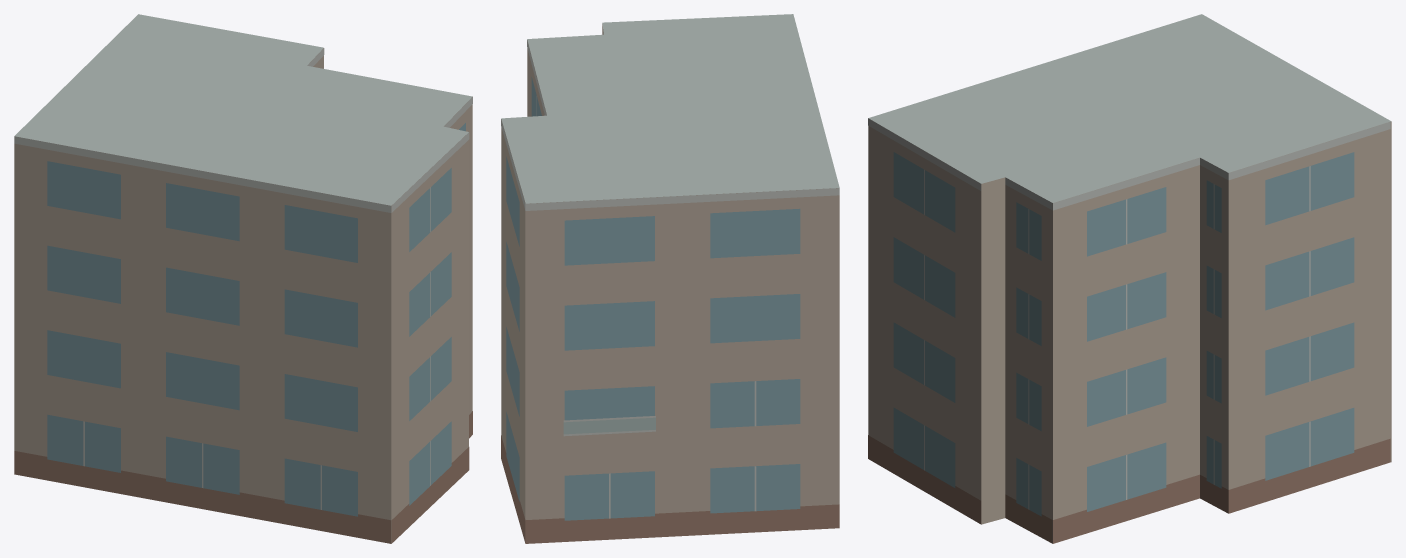
The model's file is survey-upis-32774861.glb.
3 renders of one model, left to right at view 1: azimuth 30°, elevation 25°; view 2: azimuth 150°, elevation 25°; view 3: azimuth 270°, elevation 25°, orthographic.
Visible parts, largest first — view 1: survey-upis-32774861.tmp; view 2: survey-upis-32774861.tmp; view 3: survey-upis-32774861.tmp.
Boxes of the visible parts, x1=… form: survey-upis-32774861.tmp: x1=14, y1=14, x2=472, y2=543; survey-upis-32774861.tmp: x1=501, y1=14, x2=839, y2=543; survey-upis-32774861.tmp: x1=868, y1=14, x2=1391, y2=543.
Size of the model in its own units: 13.34 by 11.2 by 15.61.
